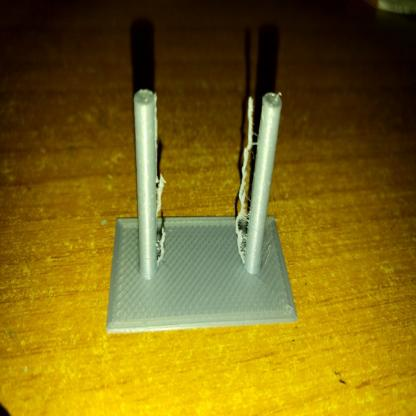fail: (237, 100, 262, 267), (157, 171, 170, 261)
